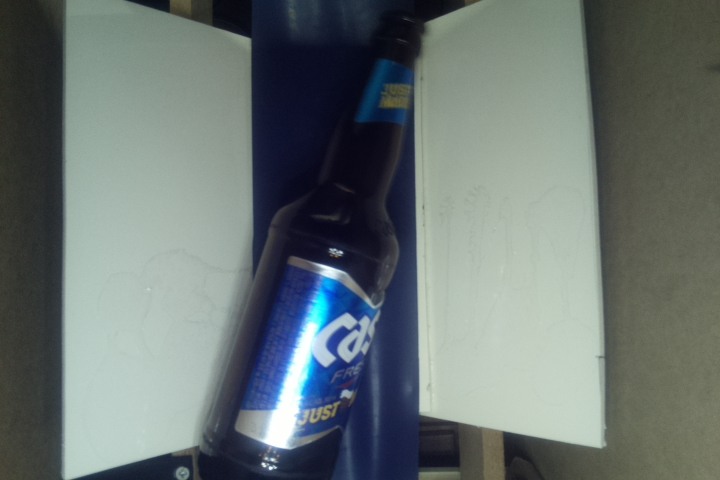makju: (193, 13, 429, 480)
